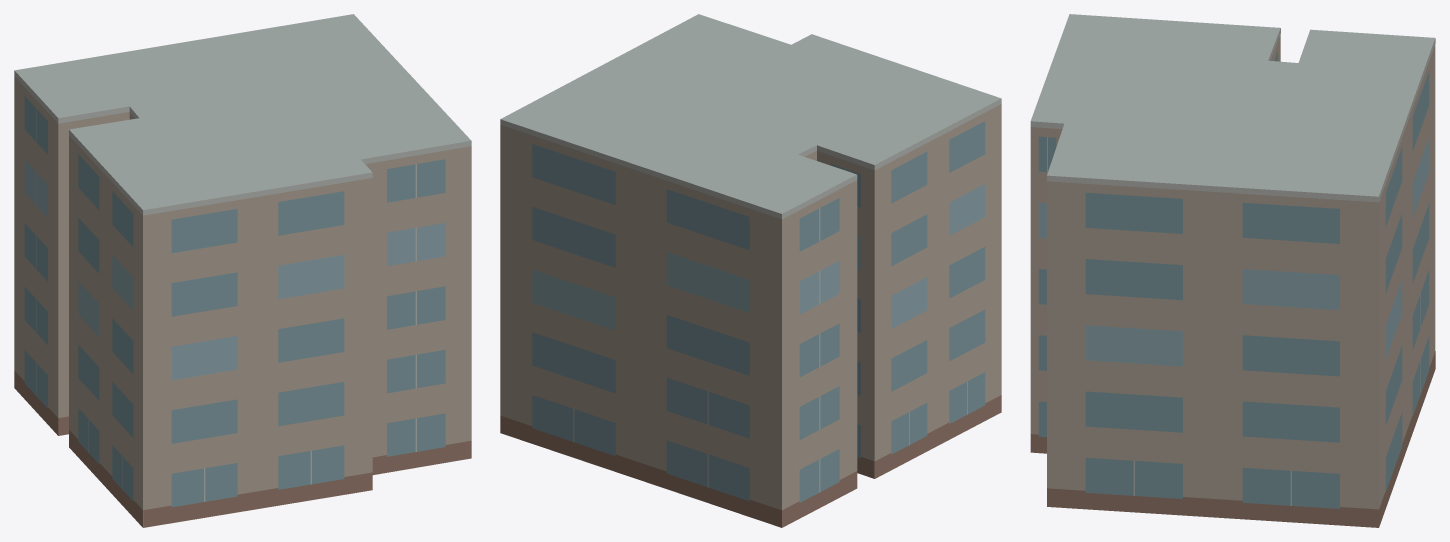
The model's file is survey-upis-32841366.glb.
3 renders of one model, left to right at view 1: azimuth 30°, elevation 25°; view 2: azimuth 150°, elevation 25°; view 3: azimuth 270°, elevation 25°, orthographic. The views are drawn at different scales.
Visible parts, largest first — view 1: survey-upis-32841366.tmp; view 2: survey-upis-32841366.tmp; view 3: survey-upis-32841366.tmp.
Boxes of the visible parts, bbox=[...] form: survey-upis-32841366.tmp: bbox=[14, 14, 471, 527]; survey-upis-32841366.tmp: bbox=[500, 14, 1001, 527]; survey-upis-32841366.tmp: bbox=[1030, 14, 1435, 527].
Bounding box in the file's own units: 16.81 × 14.2 × 15.75.
